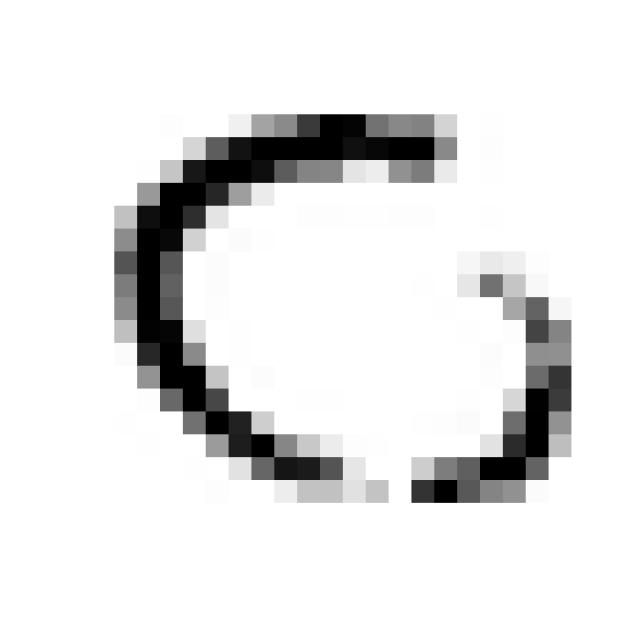5 -five-: (96, 94, 589, 529)
